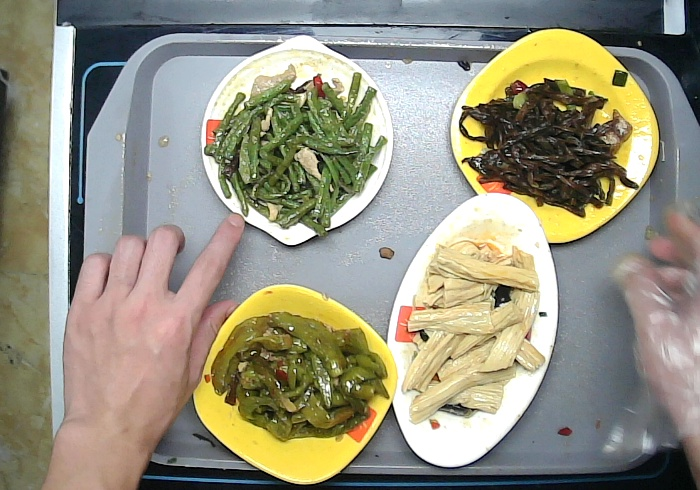SHKJ-Bao_Yu_Pan: (198, 33, 396, 249)
SHKJ-Huang_Se_Cai_Die: (188, 280, 398, 490)
SHKJ-Huang_Se_Si_Fang_Cai_Die: (448, 25, 663, 248)
SHKJ-Yu_Pan: (382, 188, 561, 469)
